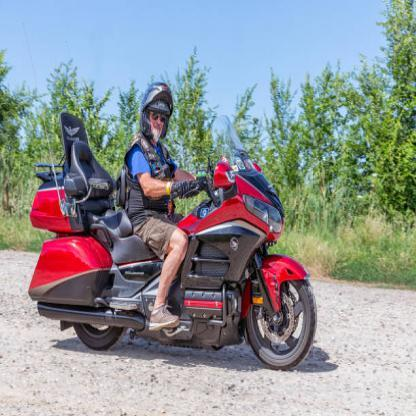Motorcycle: (25, 107, 324, 374)
